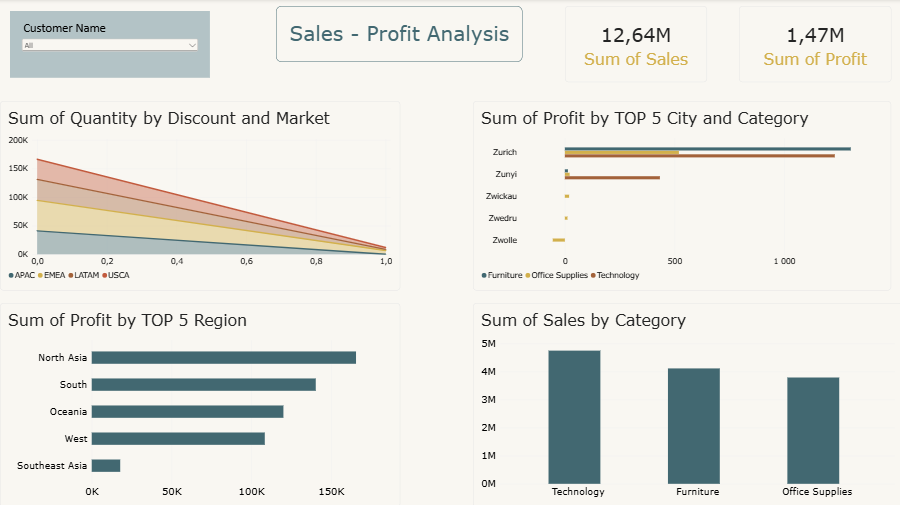

Layout of this report page (visuals, bound fields, positions):
{"tool":"powerbi","page":{"name":"Page 1","canvas":[1920,1080],"ordinal":0},"visuals":[{"type":"clusteredColumnChart","fields":{"Category":["Order Mine for dax and Visual.Category"],"Y":["Sum(Order Mine for dax and Visual.Sales)"]},"box":[1006.1,646,913.9,434.4],"z":0},{"type":"card","fields":{"Values":["Sum(Order Mine for dax and Visual.Profit)"]},"box":[1571.1,15.8,324.1,162.1],"z":1000},{"type":"barChart","title":"Sum of Profit by TOP 5 Region","fields":{"Category":["Order Mine for dax and Visual.Region"],"Y":["Sum(Order Mine for dax and Visual.Profit)"]},"box":[0,646,850.8,434.4],"z":2000},{"type":"stackedAreaChart","fields":{"Category":["Order Mine for dax and Visual.Discount"],"Series":["Order Mine for dax and Visual.Market"],"Y":["Sum(Order Mine for dax and Visual.Quantity)"]},"box":[0,216.1,850.8,402.9],"z":3000},{"type":"clusteredBarChart","title":"Sum of Profit by TOP 5 City and Category","fields":{"Category":["Order Mine for dax and Visual.City"],"Series":["Order Mine for dax and Visual.Category"],"Y":["Sum(Order Mine for dax and Visual.Profit)"]},"box":[1006.1,216.1,889.1,402.9],"z":4000},{"type":"card","fields":{"Values":["Sum(Order Mine for dax and Visual.Sales)"]},"box":[1202,14,301.6,162.1],"z":5000},{"type":"textbox","box":[587.5,15.8,524.5,119.3],"z":6000},{"type":"slicer","fields":{"Values":["Order Mine for dax and Visual.Customer Name"]},"box":[20.3,24.8,425.4,141.8],"z":6001}]}

Visuals, with their boxes in screenshot pixels (x1, y1, x2, y2), scaled from the page's 1920x1080 canvas onto the 900x505 screenshot:
clusteredColumnChart - Order Mine for dax and Visual.Category x Sum(Order Mine for dax and Visual.Sales): [left=472, top=302, right=899, bottom=504]
card - Sum(Order Mine for dax and Visual.Profit): [left=736, top=7, right=888, bottom=83]
"Sum of Profit by TOP 5 Region" barChart: [left=0, top=302, right=399, bottom=504]
stackedAreaChart - Order Mine for dax and Visual.Discount x Order Mine for dax and Visual.Market: [left=0, top=101, right=399, bottom=289]
"Sum of Profit by TOP 5 City and Category" clusteredBarChart: [left=472, top=101, right=888, bottom=289]
card - Sum(Order Mine for dax and Visual.Sales): [left=563, top=7, right=705, bottom=82]
textbox: [left=275, top=7, right=521, bottom=63]
slicer - Order Mine for dax and Visual.Customer Name: [left=10, top=12, right=209, bottom=78]
